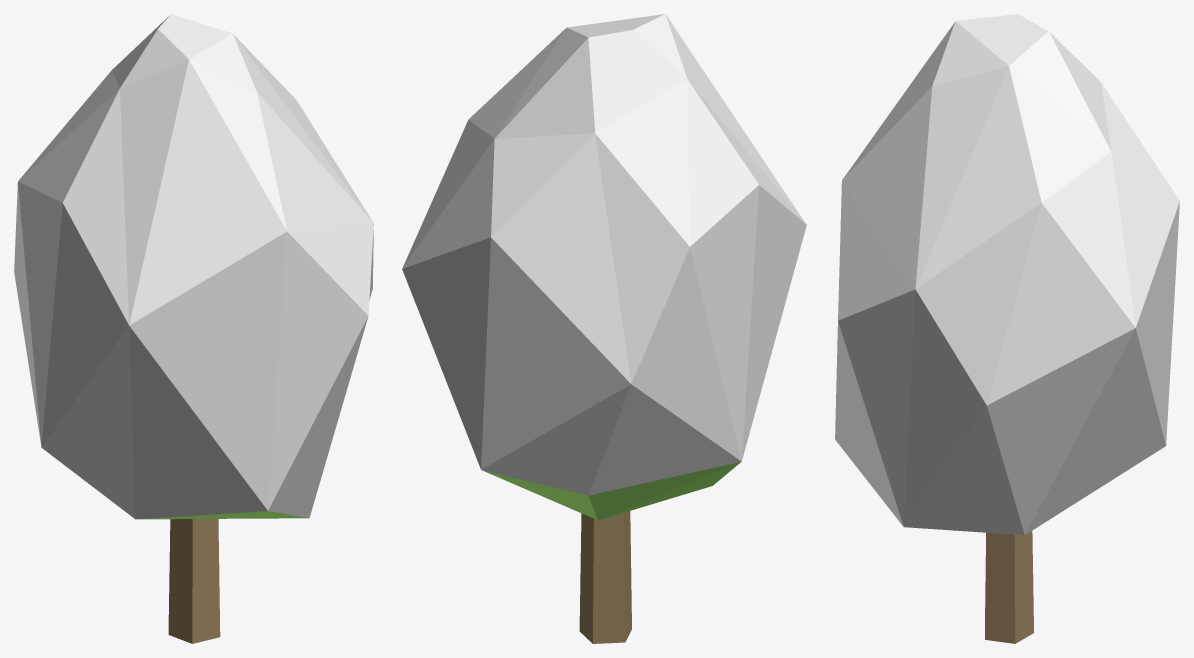
The model's file is Thuja_Tree_s_Snow_BT_04.fbx.
3 renders of one model, left to right at view 1: azimuth 30°, elevation 25°; view 2: azimuth 150°, elevation 25°; view 3: azimuth 270°, elevation 25°, orthographic. The views are drawn at different scales.
Visible parts, largest first — view 1: Thuja_Tree_s_Snow_BT_04; view 2: Thuja_Tree_s_Snow_BT_04; view 3: Thuja_Tree_s_Snow_BT_04.
Boxes of the visible parts, bbox=[...] form: Thuja_Tree_s_Snow_BT_04: bbox=[14, 14, 373, 643]; Thuja_Tree_s_Snow_BT_04: bbox=[402, 14, 806, 643]; Thuja_Tree_s_Snow_BT_04: bbox=[835, 14, 1179, 643].
Bounding box in the file's own units: 146 × 273 × 141.
